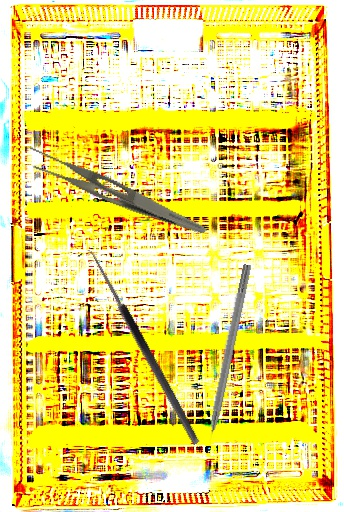Dressing Forceps: (19, 142, 215, 237)
Hook Surgical: (76, 246, 202, 451), (200, 263, 253, 455)
